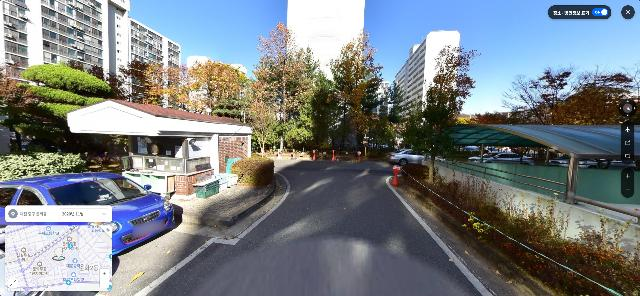other: (399, 43, 484, 185), (244, 23, 317, 154), (13, 63, 113, 154), (323, 27, 390, 154), (179, 60, 250, 115), (115, 58, 183, 107)
